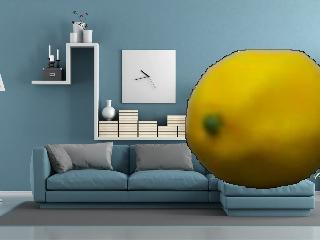lemon: (185, 49, 320, 189)
